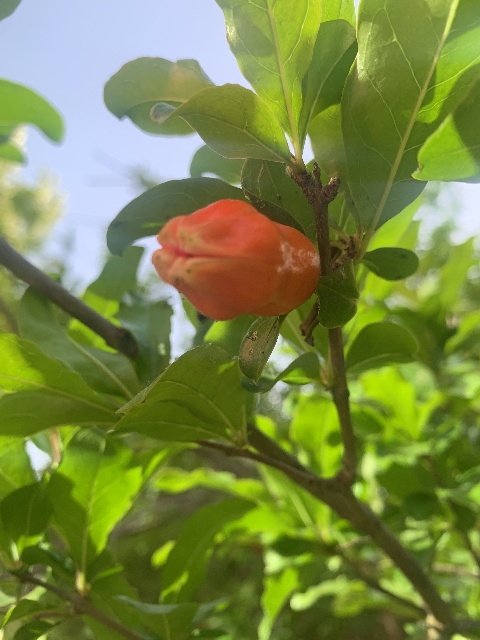flower: (150, 200, 320, 321)
